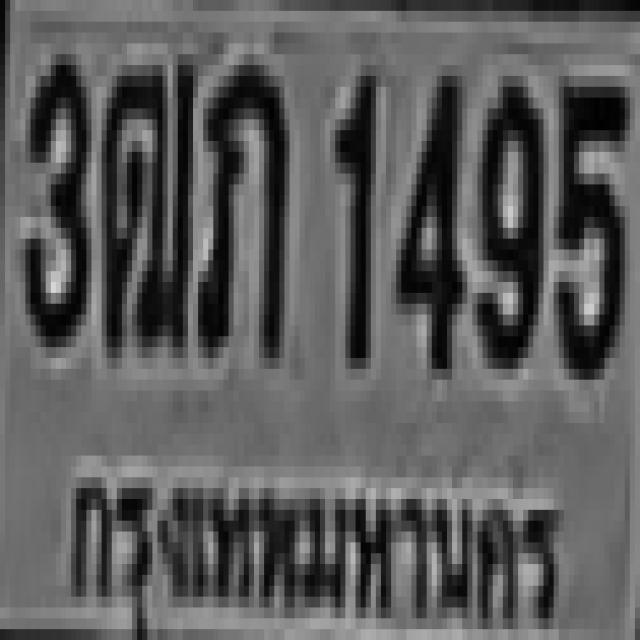1: (330, 65, 371, 358)
27ThorPhuThao: (99, 54, 191, 347)
3: (20, 44, 86, 336)
4: (391, 60, 457, 363)
41PhorSamPhao: (193, 54, 284, 347)
5: (554, 76, 624, 369)
9: (472, 65, 538, 358)
Bangkok: (56, 434, 579, 640)
